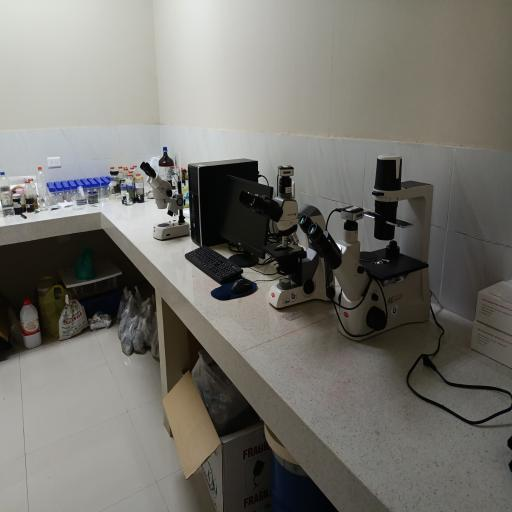Microscopio_camara: (294, 147, 448, 348), (238, 152, 334, 318)
